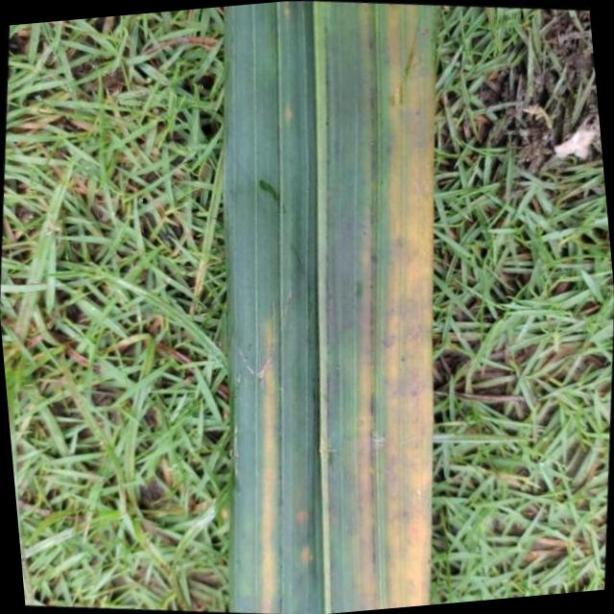Megnesium: (220, 0, 430, 612)
